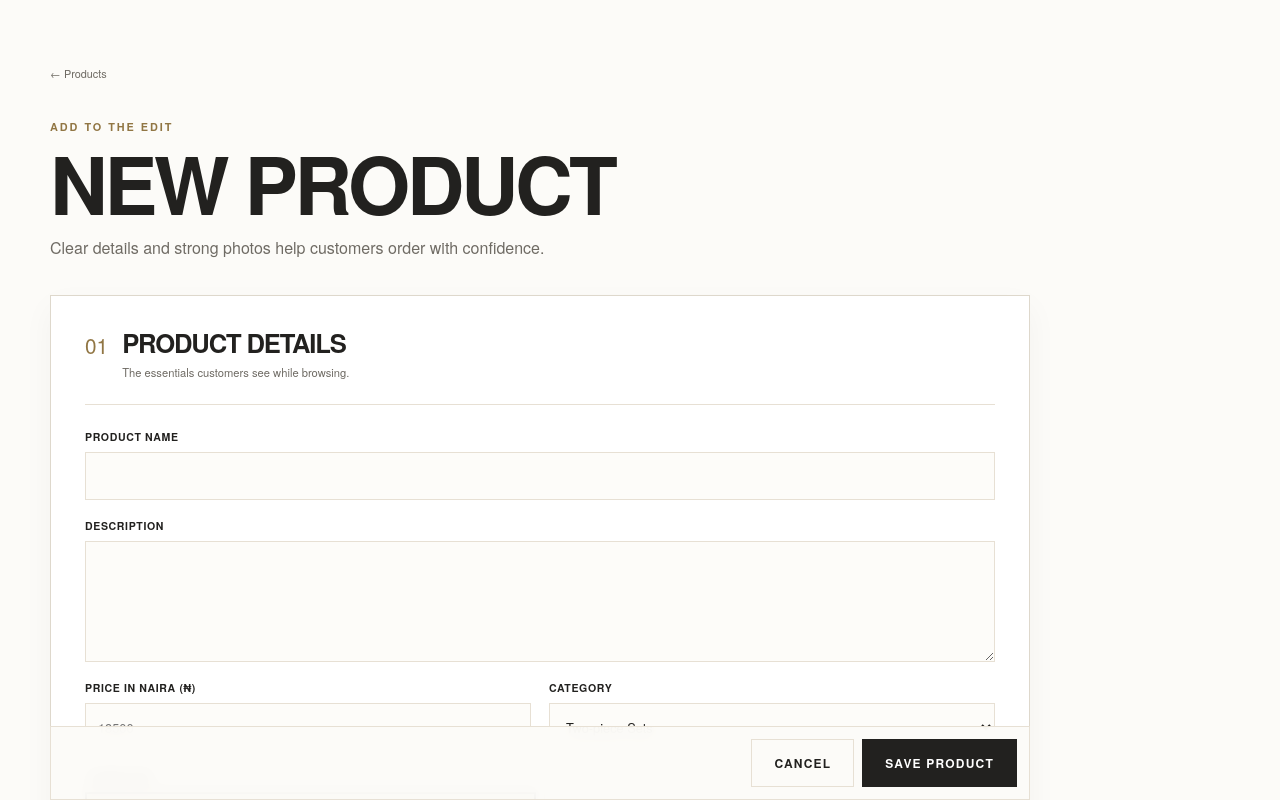
Test: requires an owner to choose at least one audience
Expected: the dropdown labelled "Category" is shown, [549,704,995,752]
Click the button "Save product".
click(940, 763)  # box [862,739,1017,787]
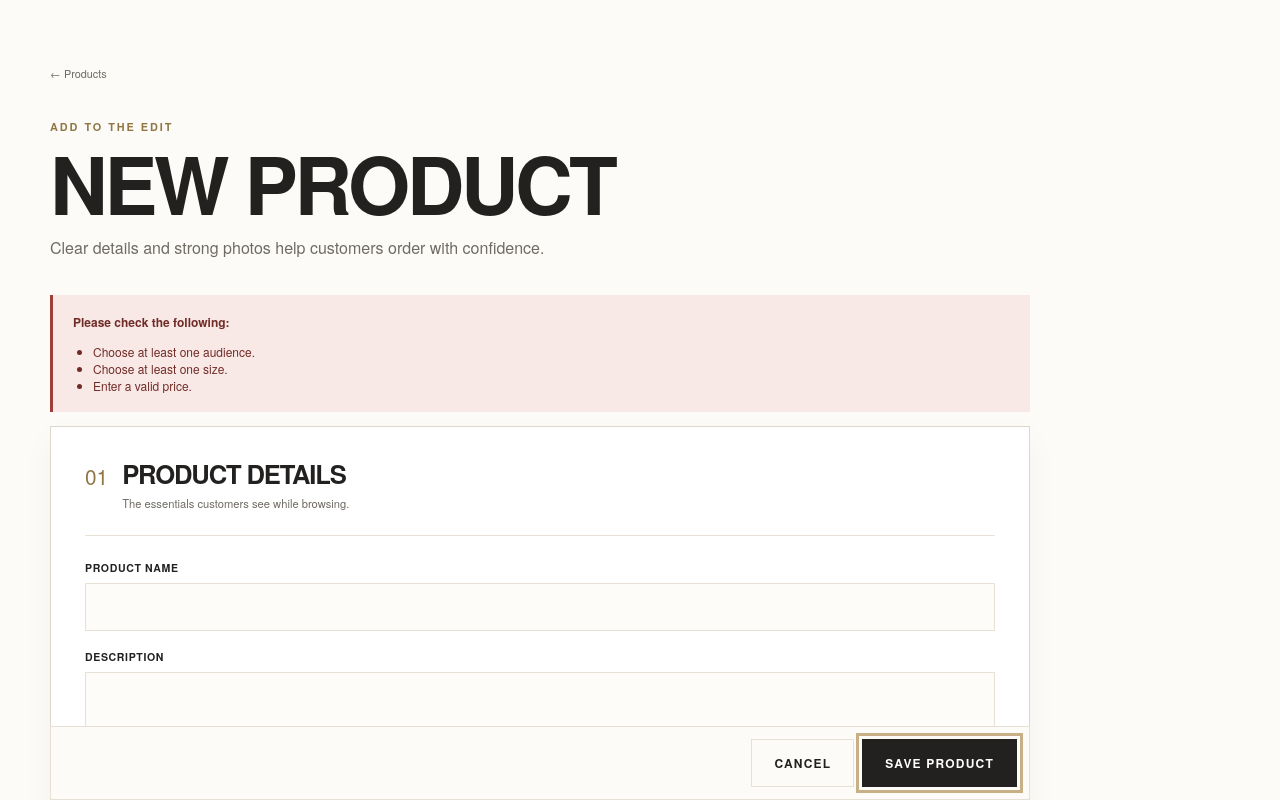
Expected: the list item "Choose at least one audience." is shown, [93,343,255,360]
